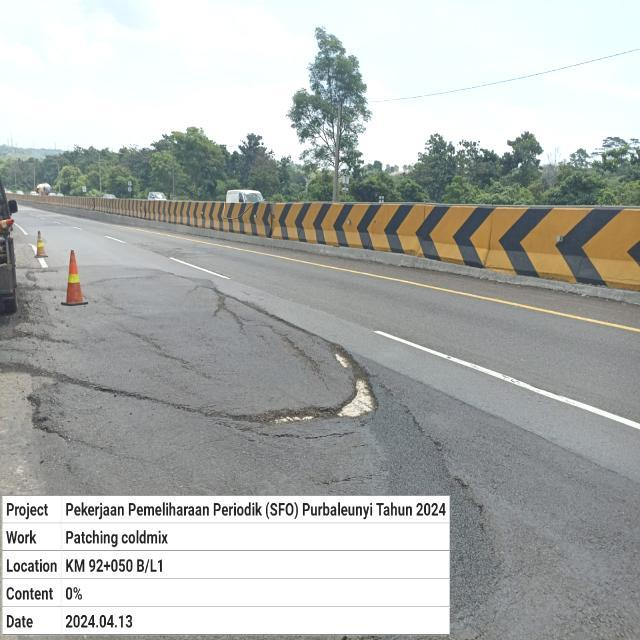Buraco: (222, 341, 382, 429)
